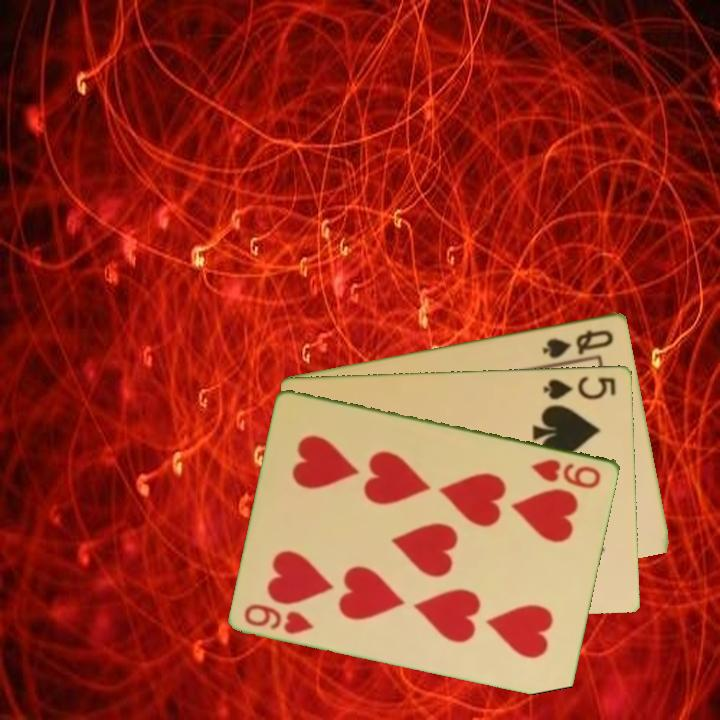5s: (540, 372, 619, 402)
9h: (241, 600, 317, 637), (528, 455, 604, 491)
Qs: (539, 325, 617, 361)
